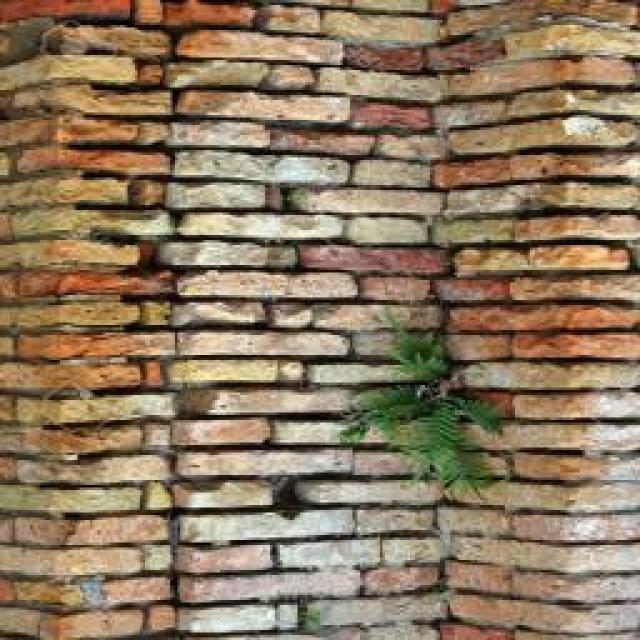crack: (157, 9, 251, 635), (132, 25, 180, 626), (43, 16, 71, 360), (445, 56, 634, 103), (447, 6, 612, 54), (440, 181, 639, 220), (442, 152, 640, 190), (7, 115, 164, 156), (174, 29, 337, 68), (14, 545, 164, 583), (496, 232, 640, 271), (476, 276, 640, 307), (9, 483, 157, 516), (315, 66, 444, 103), (174, 269, 323, 301), (512, 213, 640, 245), (48, 86, 168, 120), (170, 149, 287, 183), (168, 59, 287, 92), (172, 119, 294, 151), (426, 37, 508, 72), (343, 42, 434, 73), (159, 1, 261, 27), (329, 34, 449, 53)
dampens: (48, 11, 143, 36)
dampness: (6, 10, 176, 332), (279, 0, 443, 226)
vegetation: (337, 304, 506, 499), (2, 11, 150, 75), (252, 180, 294, 259), (560, 110, 628, 143), (78, 574, 105, 609), (280, 186, 303, 215), (265, 183, 283, 214)
